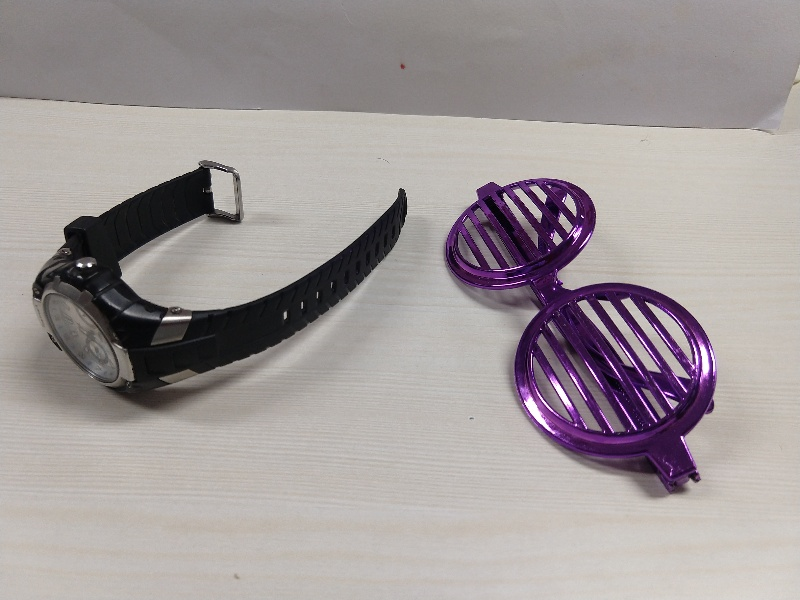shades: (439, 161, 727, 498)
watch: (22, 156, 418, 397)
